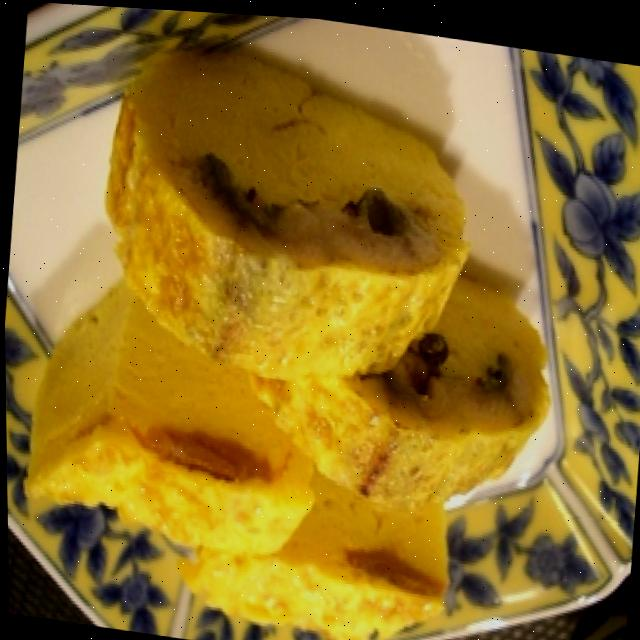鸡蛋料理: (6, 22, 574, 640)
